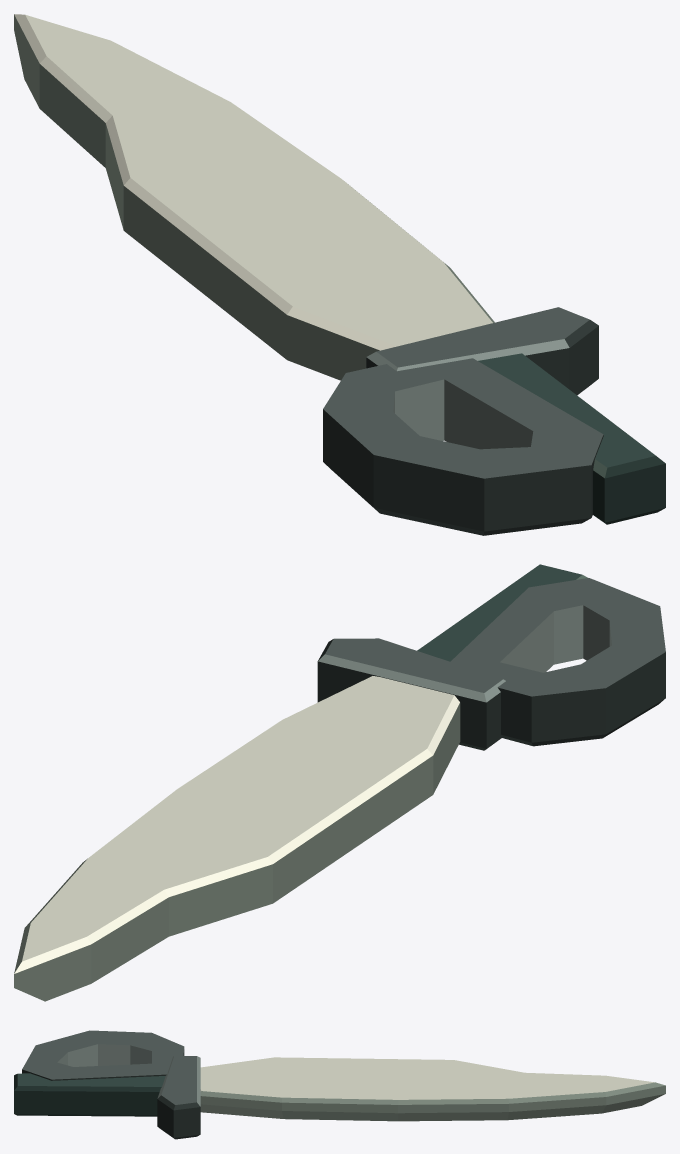
File: pirate_sword.fbx
3 renders of one model, top to bottom at view 1: azimuth 30°, elevation 25°; view 2: azimuth 150°, elevation 25°; view 3: azimuth 270°, elevation 25°, orthographic. The views are drawn at different scales.
Visible parts, largest first — view 1: pirate_sword; view 2: pirate_sword; view 3: pirate_sword.
Part boxes in pixels (bbox=[...]): pirate_sword: bbox=[14, 14, 665, 535]; pirate_sword: bbox=[14, 564, 665, 1001]; pirate_sword: bbox=[14, 1030, 665, 1139].
Bounding box in the file's own units: 0.68 × 0.14 × 2.41.
Materials: 1 (1 with a texture image).
